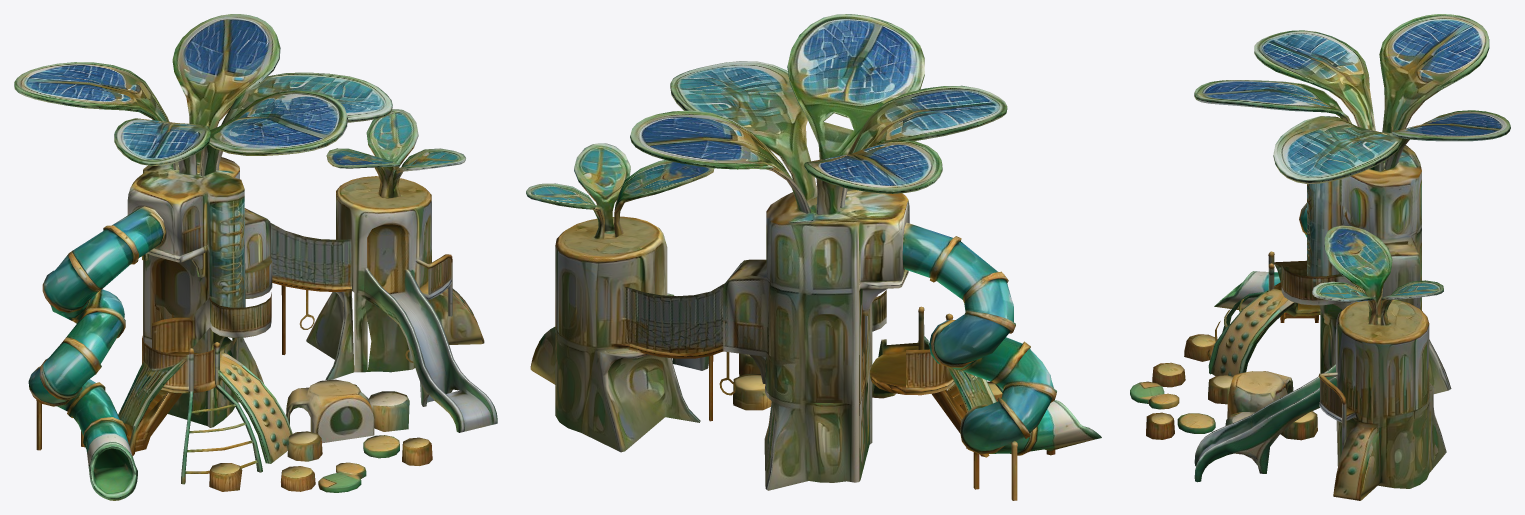
The model's file is playground.glb.
The picture shows the model from 3 angles, left to right: view 1: azimuth 30°, elevation 25°; view 2: azimuth 150°, elevation 25°; view 3: azimuth 270°, elevation 25°; orthographic projection. The views are drawn at different scales.
Visible parts, largest first — view 1: tripo_22cbd7cc_5279_41a5_ad62_c4585c04f9f4; view 2: tripo_22cbd7cc_5279_41a5_ad62_c4585c04f9f4; view 3: tripo_22cbd7cc_5279_41a5_ad62_c4585c04f9f4.
Boxes of the visible parts, x1,y1,x2,y2 form: tripo_22cbd7cc_5279_41a5_ad62_c4585c04f9f4: (14, 14, 497, 500); tripo_22cbd7cc_5279_41a5_ad62_c4585c04f9f4: (526, 14, 1101, 500); tripo_22cbd7cc_5279_41a5_ad62_c4585c04f9f4: (1130, 14, 1510, 500).
Bounding box in the file's own units: 0.9995 × 0.6997 × 0.7563.
1 material, 1 textured.
